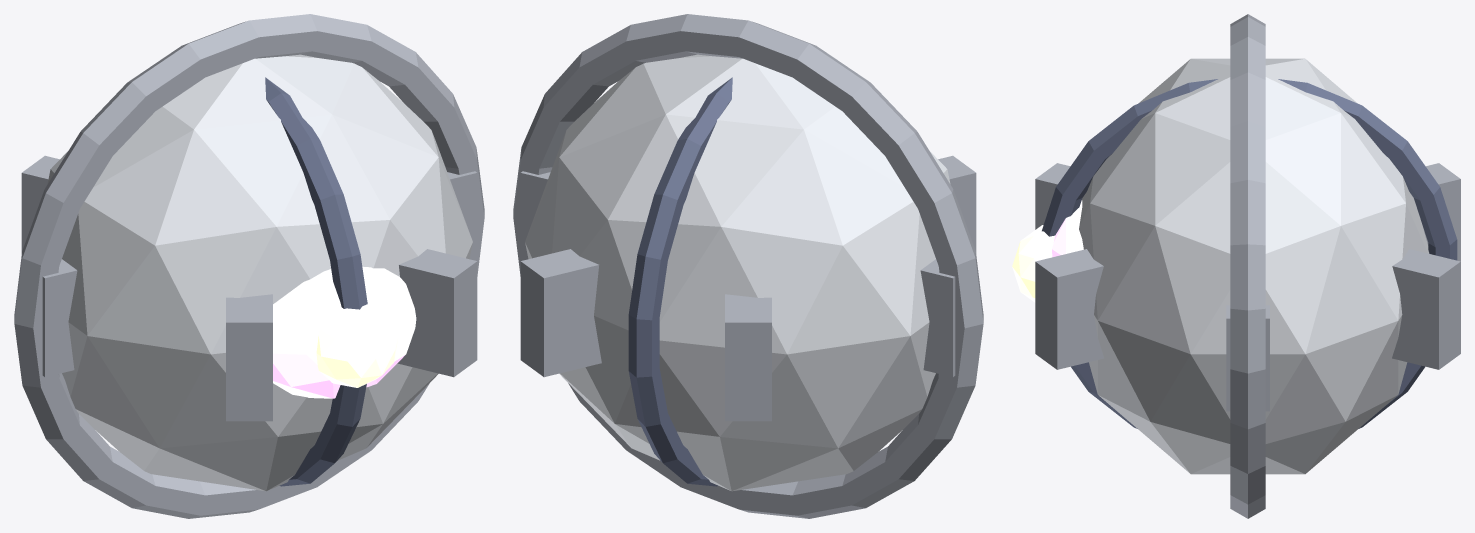
File: boss_core.glb
3 views of the same model, side by side, from view 1: azimuth 30°, elevation 25°; view 2: azimuth 150°, elevation 25°; view 3: azimuth 270°, elevation 25° (orthographic). The views are drawn at different scales.
Parts seen in each view (by area): view 1: boss_core; view 2: boss_core; view 3: boss_core.
Part boxes in pixels (x1,y1,x2,y2): boss_core: (14, 14, 484, 518); boss_core: (513, 14, 983, 518); boss_core: (1012, 14, 1460, 518).
Size of the model in its own units: 3.48 by 3.48 by 3.08.
